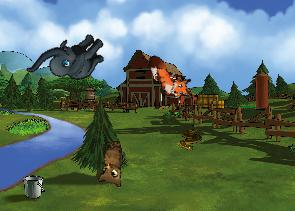elephant: (25, 14, 112, 103)
fox: (145, 46, 196, 107)
owl: (92, 139, 126, 189)
